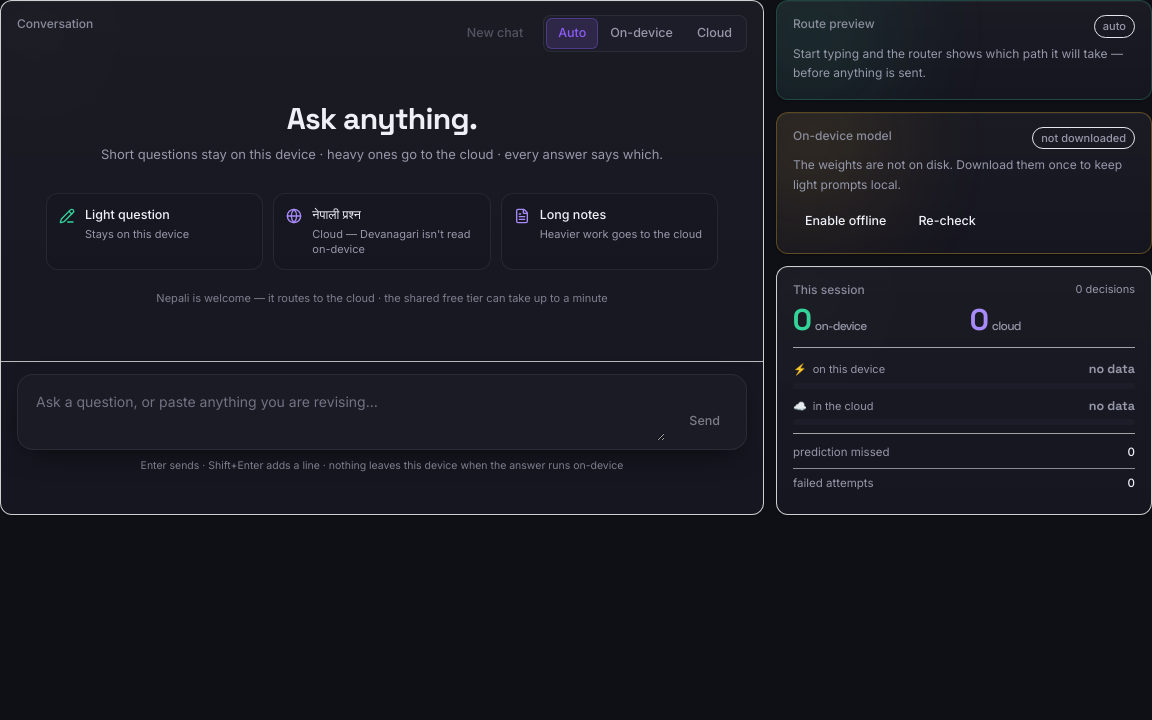
AskPage automatic retry on capacity › stops after two retries, so an exhausted quota cannot loop
Later steps or results of the test are not shown.
In the text box named "Your question": [346, 412] box [26,383,665,441], type "Loop?"
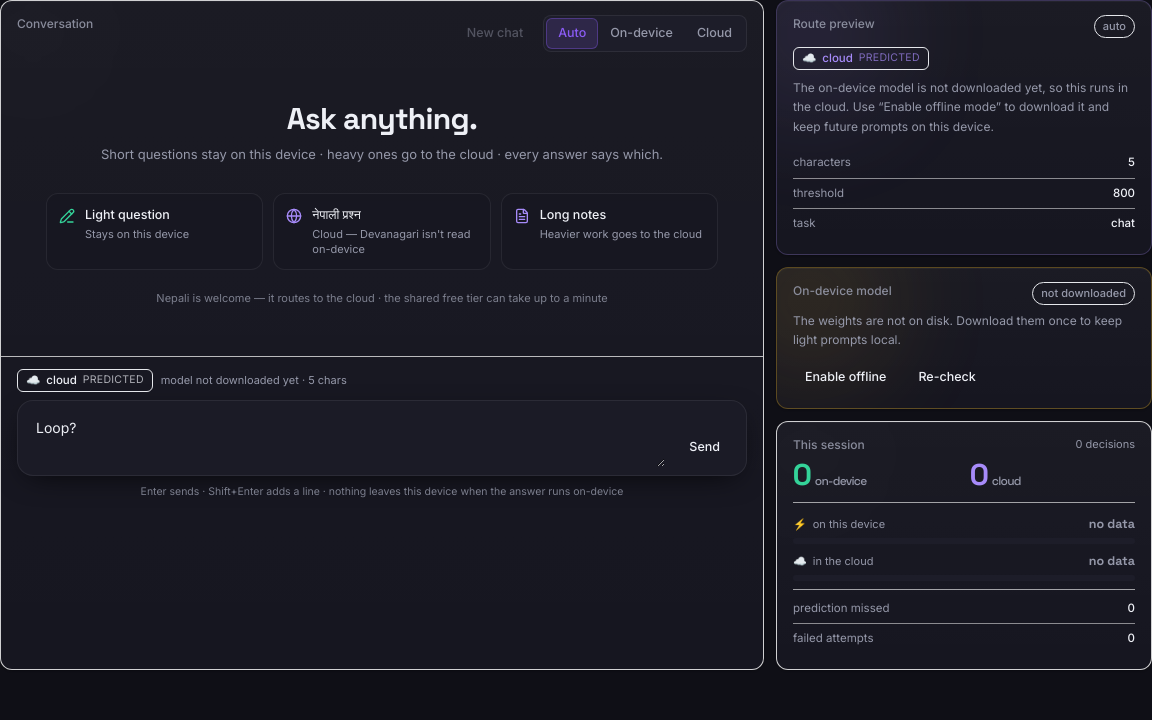
Click the button "Send": [705, 447] box [673,429,736,465]
Wait 127000 ms
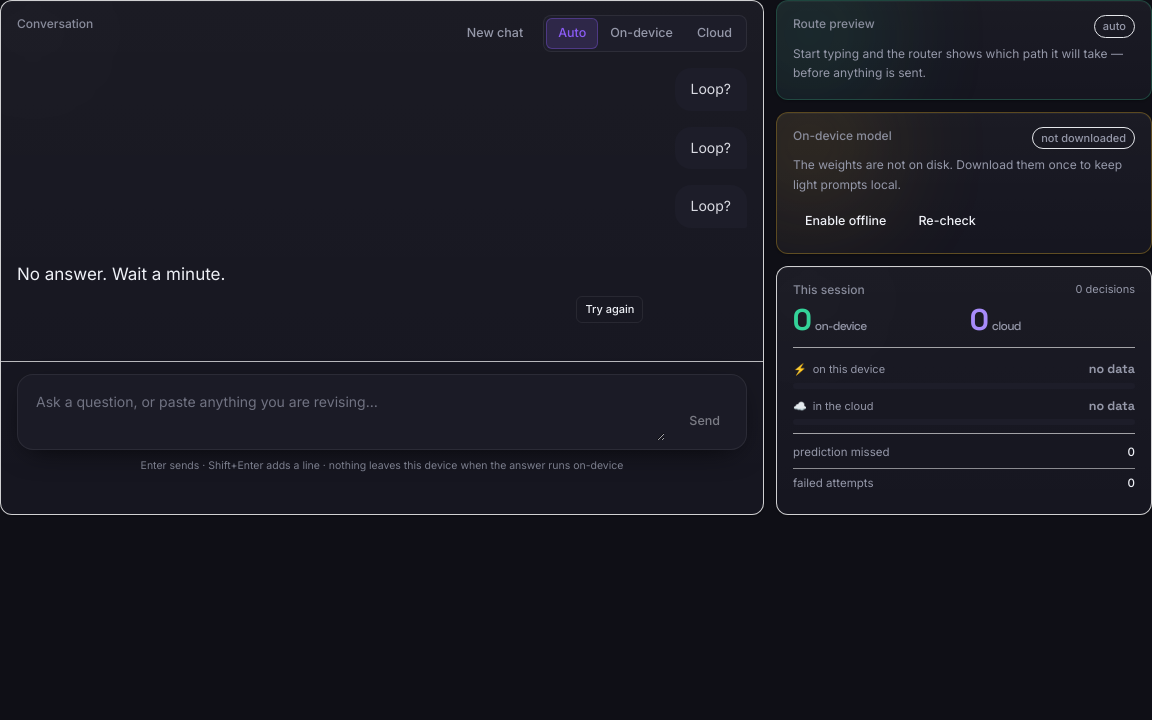
Expected: the button "Try again" is shown, [576,296,644,322]
